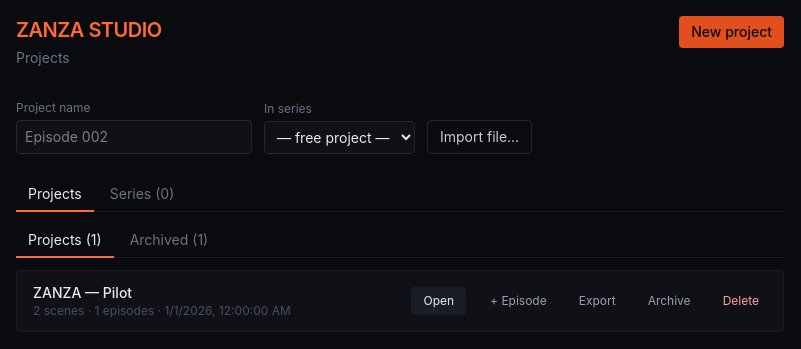
ProjectBrowser › hides archived projects until asked, and shows them again on request
Expected: the text "ZANZA — Pilot" is shown, left=33, top=284, right=132, bottom=301
Expected: the text "Old Cut" is not shown
Click the button "Archived (1)": [169, 241] box left=118, top=224, right=220, bottom=258
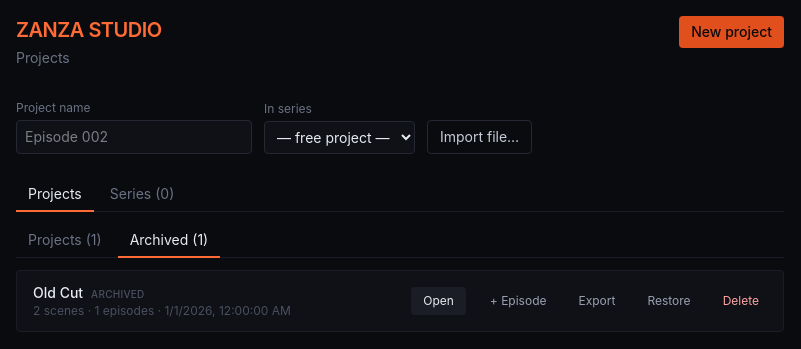
Now the text "Old Cut" is shown, box left=33, top=284, right=83, bottom=301
Now the text "ZANZA — Pilot" is gone
